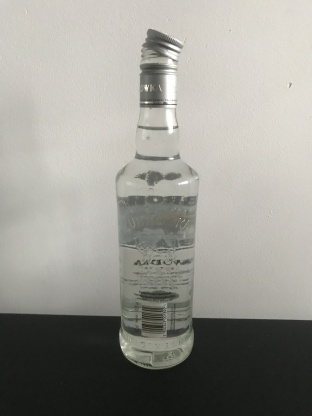nakretka: (138, 26, 184, 109)
